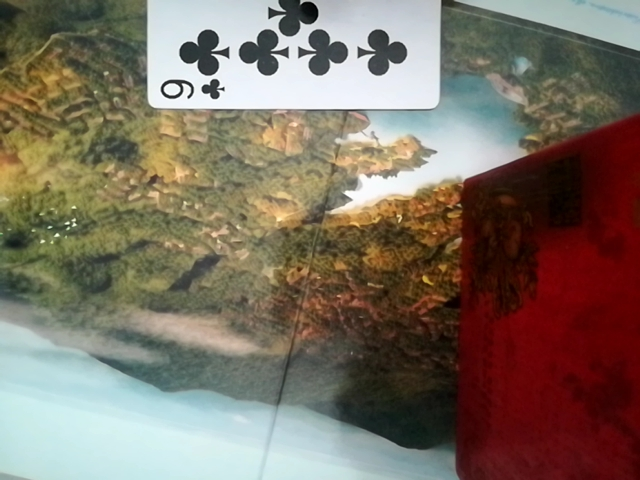mh 9: (134, 0, 441, 114)
